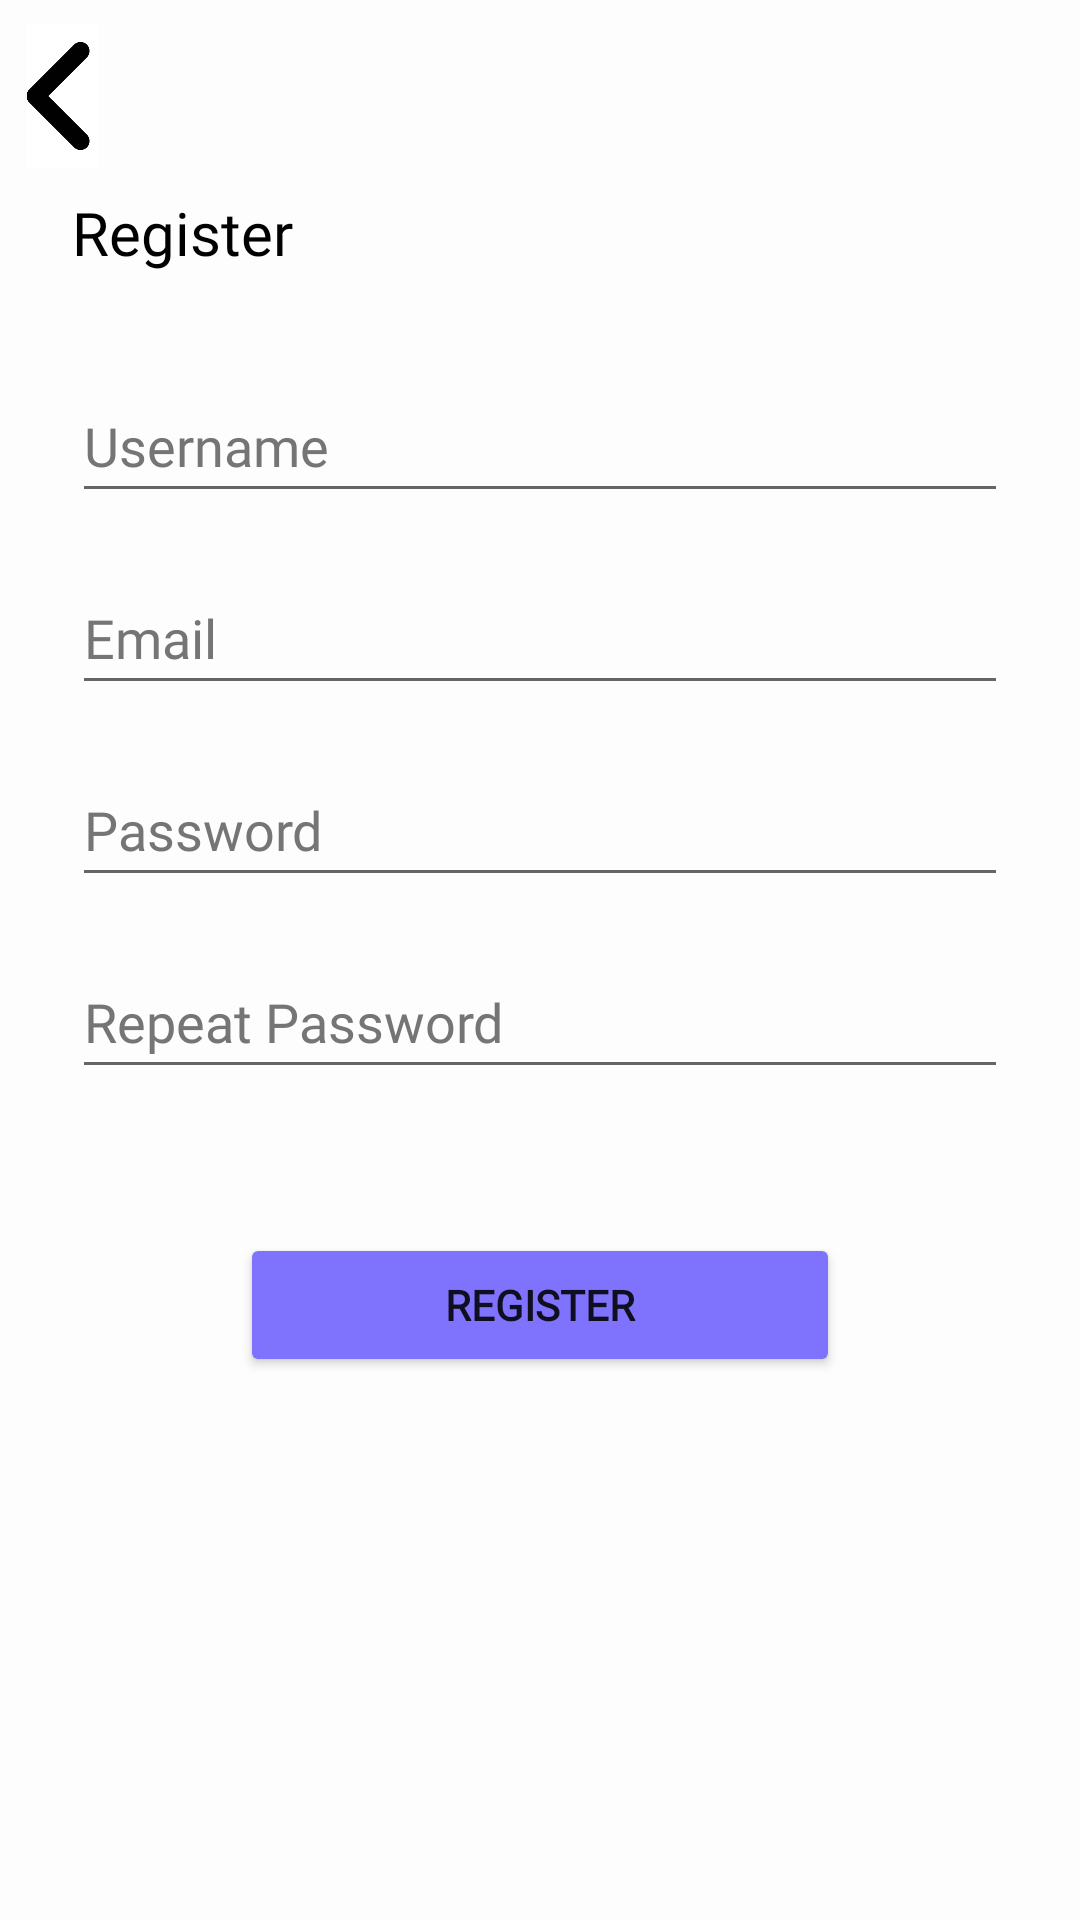

Screen size 1080px x 1920px. Icon name, then its center in pixels as [x,y]:
back: [58,96]
